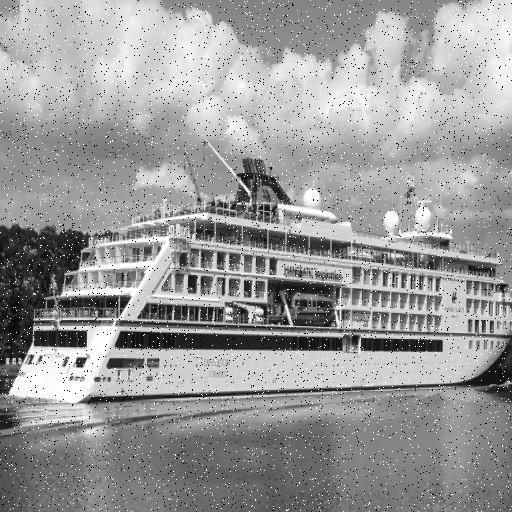cruises: (5, 128, 512, 400)
